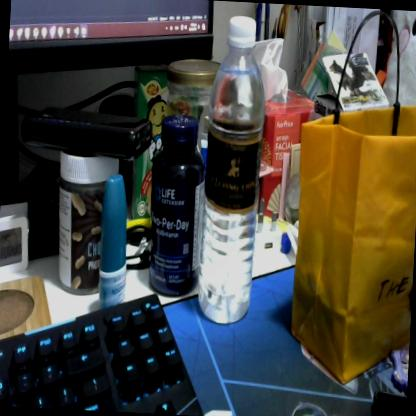plastic_bottles: (195, 11, 270, 326)
